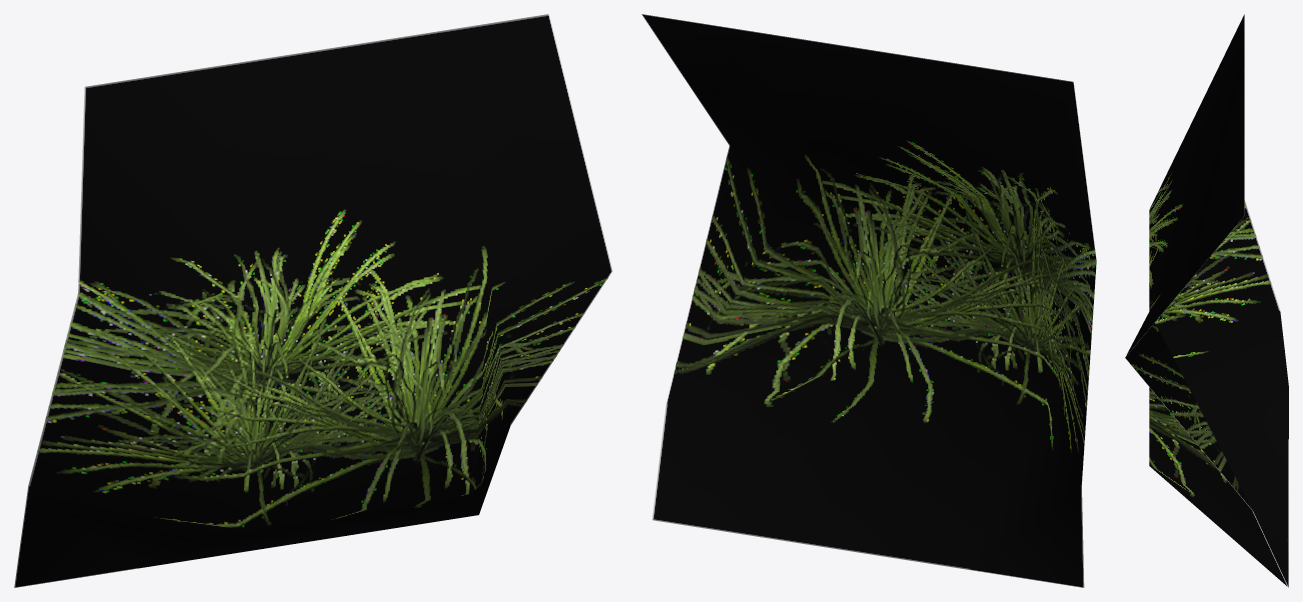
Rendered from grass_3.fbx.
The picture shows the model from 3 angles, left to right: view 1: azimuth 30°, elevation 25°; view 2: azimuth 150°, elevation 25°; view 3: azimuth 270°, elevation 25°; orthographic projection. The views are drawn at different scales.
Visible parts, largest first — view 1: pPlane1; view 2: pPlane1; view 3: pPlane1.
Boxes of the visible parts, x1=… form: pPlane1: x1=14, y1=14, x2=612, y2=587; pPlane1: x1=641, y1=14, x2=1096, y2=587; pPlane1: x1=1125, y1=14, x2=1288, y2=587.
Size of the model in its own units: 4.17 by 4.36 by 1.55.
